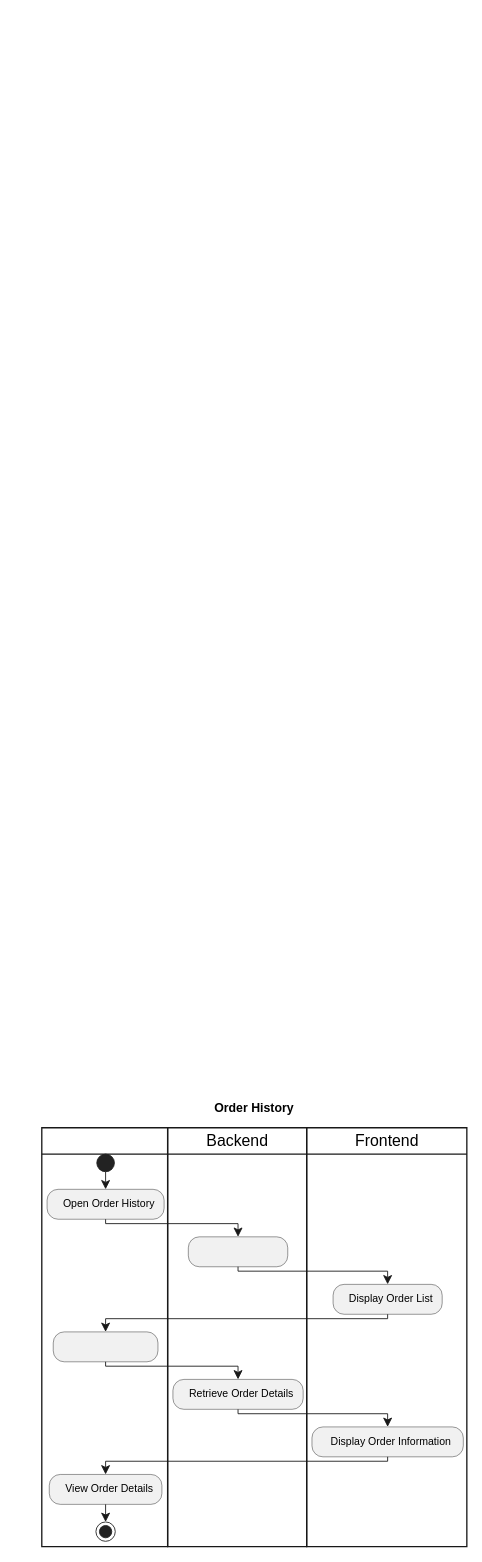
The diagram is 482 pixels wide and 1562 high, and some of its shapes have lost their labels. Here are the shapes that lost their labels. From the top down, the box of each, then its label:
(188, 1236, 288, 1267): Get User Orders
(41, 1127, 168, 1547): Customer
(53, 1331, 158, 1362): Select Past Order
